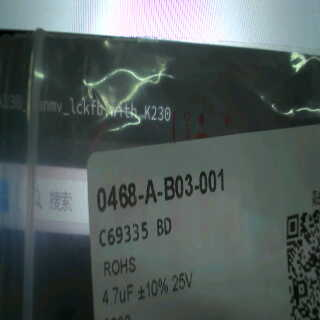4.7uF: (98, 281, 136, 311)
